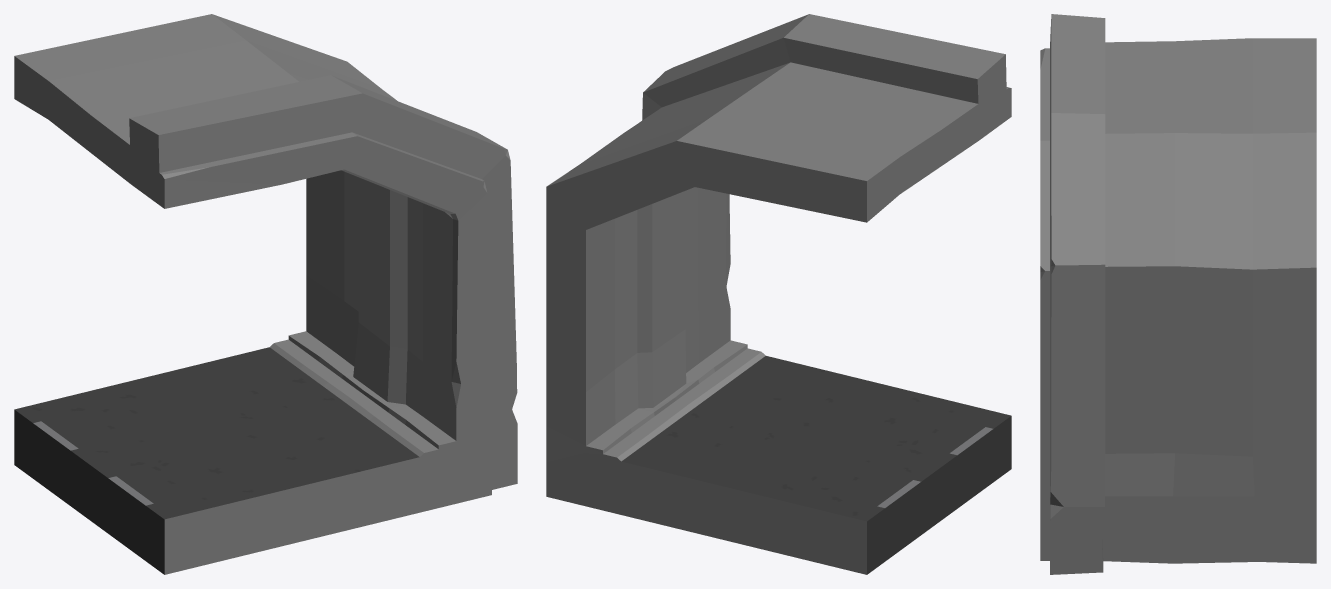
Rendered from SM_Env_Motorway_Bridge_Edge_01.glb.
3 views of the same model, side by side, from view 1: azimuth 30°, elevation 25°; view 2: azimuth 150°, elevation 25°; view 3: azimuth 270°, elevation 25° (orthographic). The views are drawn at different scales.
Visible parts, largest first — view 1: SM_Env_Motorway_Bridge_Edge_01; view 2: SM_Env_Motorway_Bridge_Edge_01; view 3: SM_Env_Motorway_Bridge_Edge_01.
Boxes of the visible parts, box(x1,y1,x2,y2) form: SM_Env_Motorway_Bridge_Edge_01: box(14, 14, 517, 574); SM_Env_Motorway_Bridge_Edge_01: box(546, 14, 1011, 574); SM_Env_Motorway_Bridge_Edge_01: box(1040, 14, 1316, 574).
Bounding box in the file's own units: 6.88 × 7.99 × 5.
Materials: 1 (1 with a texture image).
